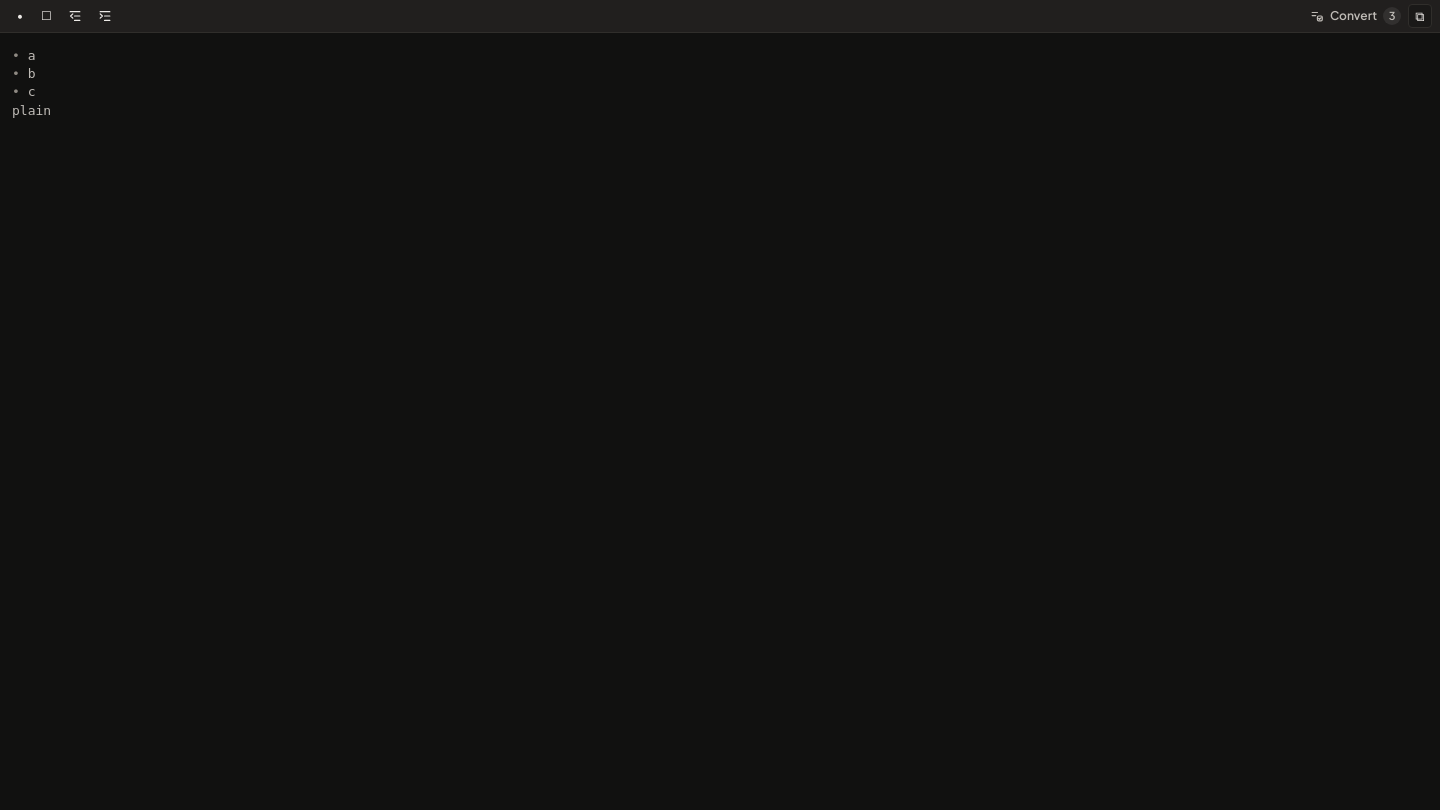
Test case: Remove note lines after converting (the setting) › the preview: its button says the lines go; no remove / keep prompt; lines left out stay
Step 1. Click the button "Convert 3 " → coordinates (1354, 16), box [1303,4,1406,28]
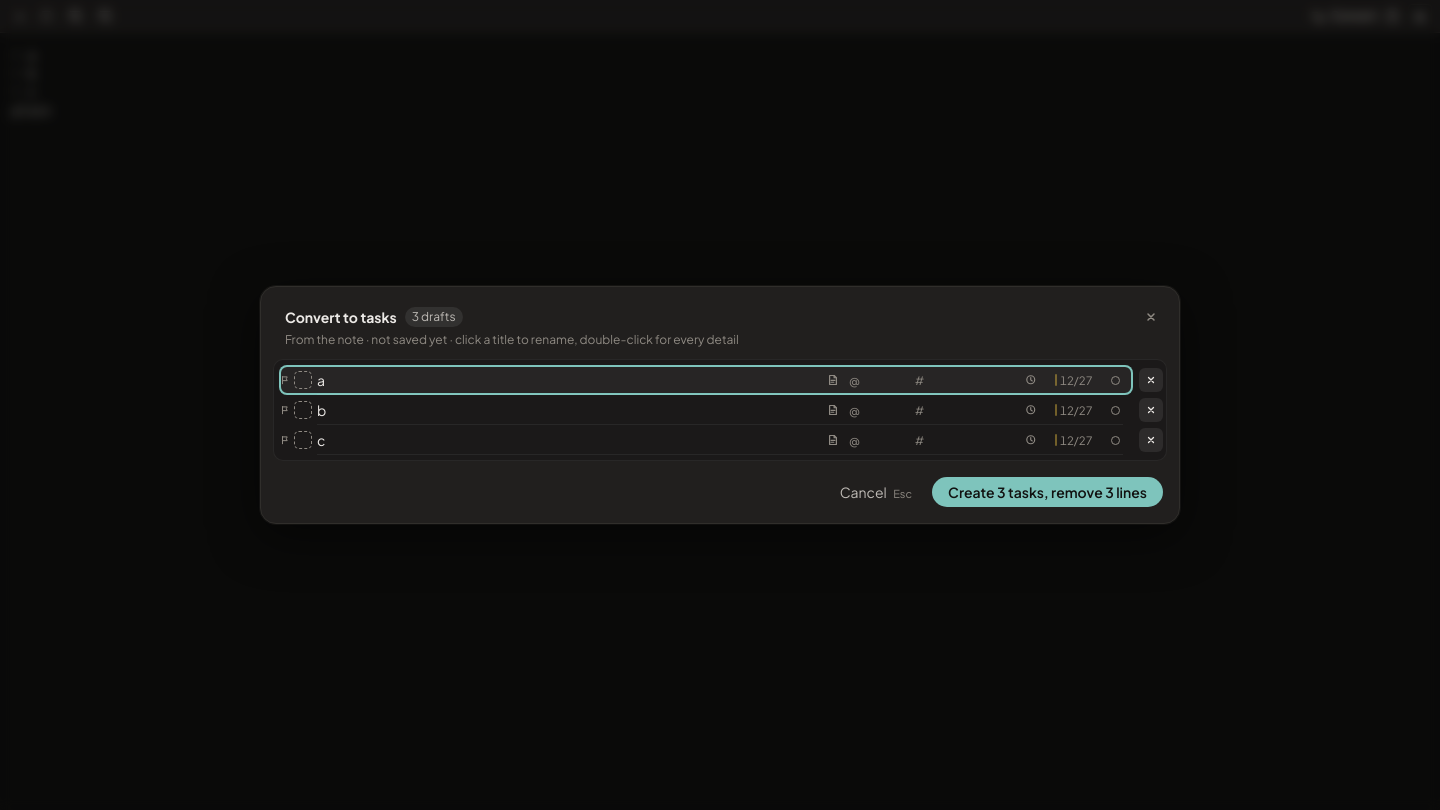
Step 2. Click the button named "Remove \"c\"" → coordinates (1151, 440), box [1139,428,1163,452]
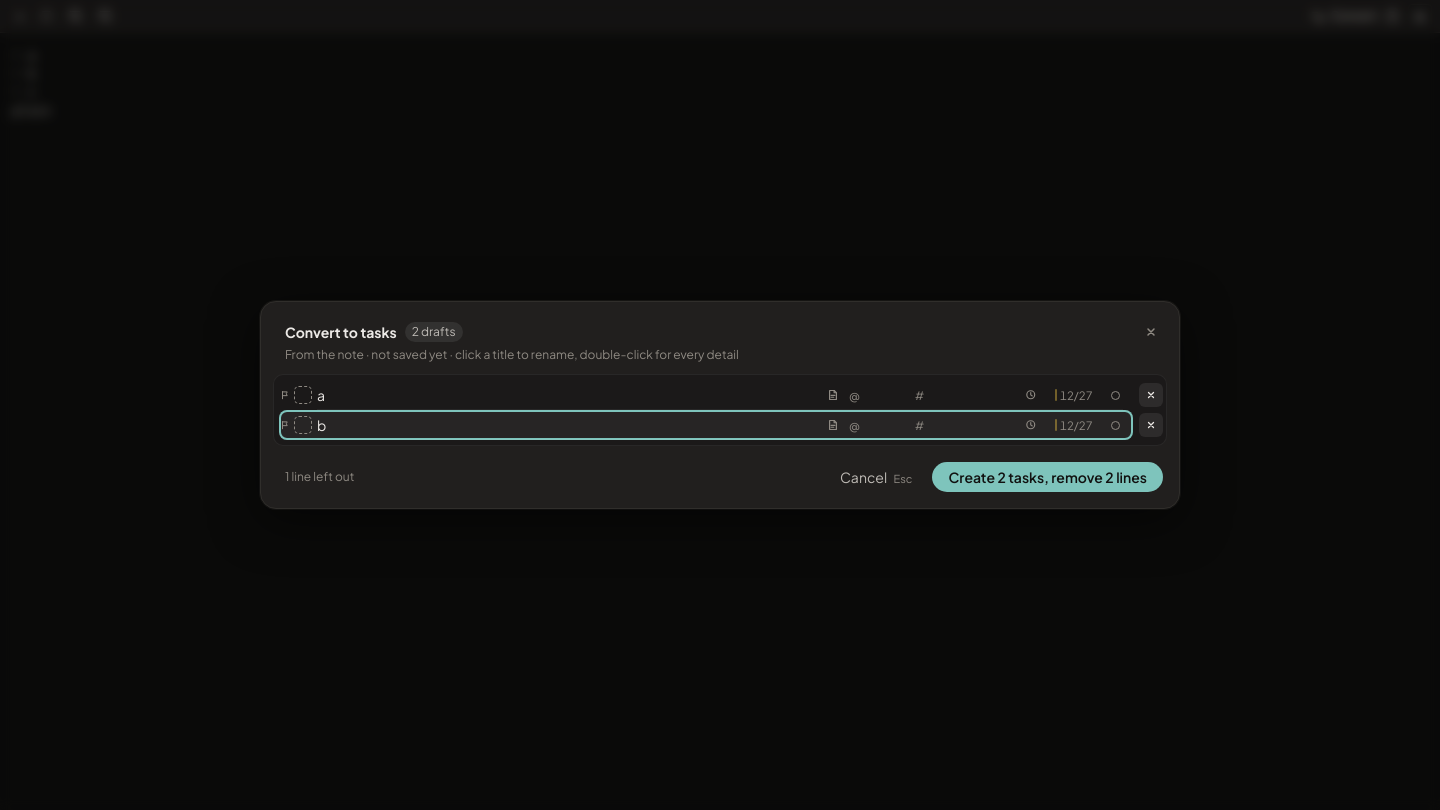
Step 3. Click the checkbox named "Done: remove \"b\" from the note" → coordinates (303, 425), box [294,416,312,434]
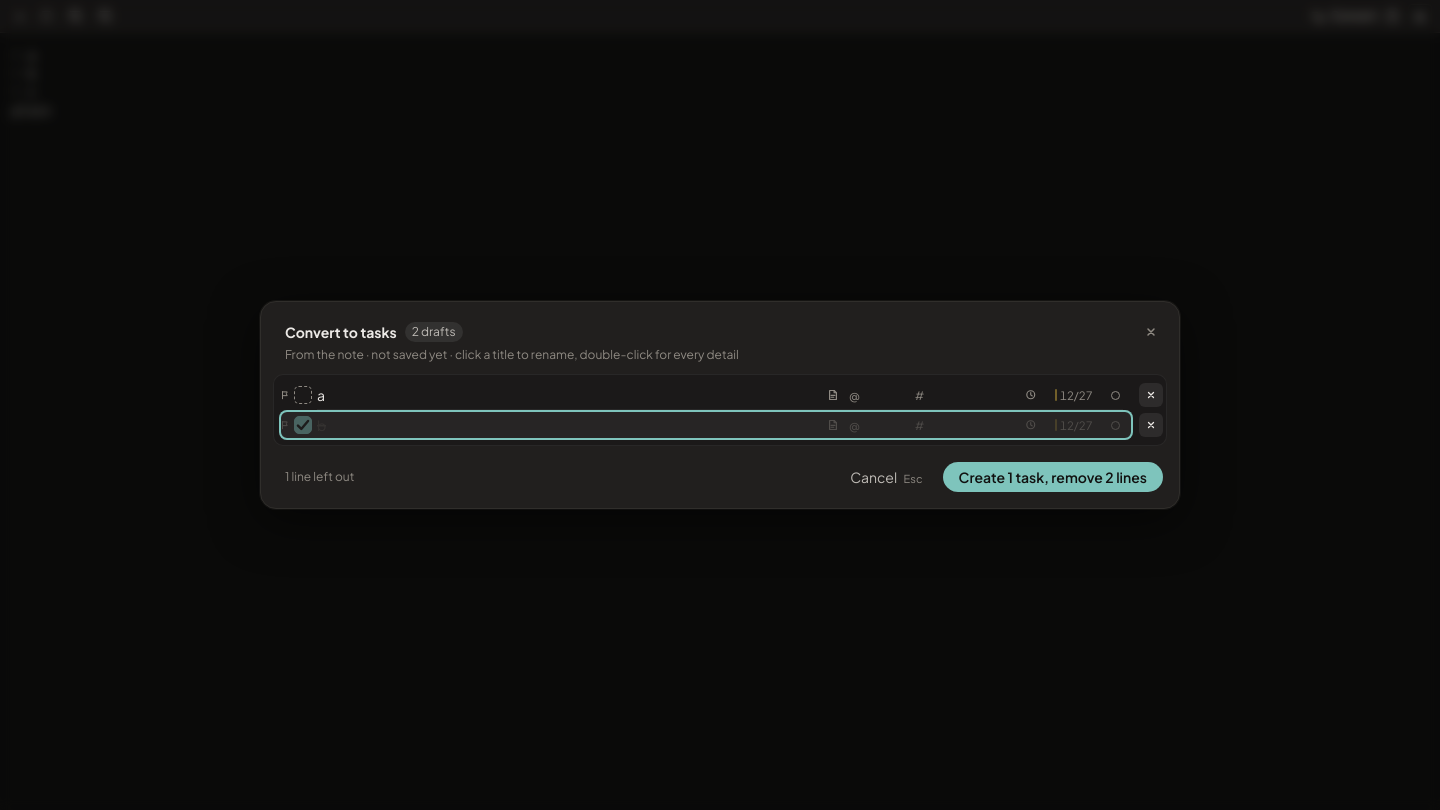
Step 4. Click the button "Create 1 task, remove 2 lines" → coordinates (1053, 477), box [942,462,1163,492]
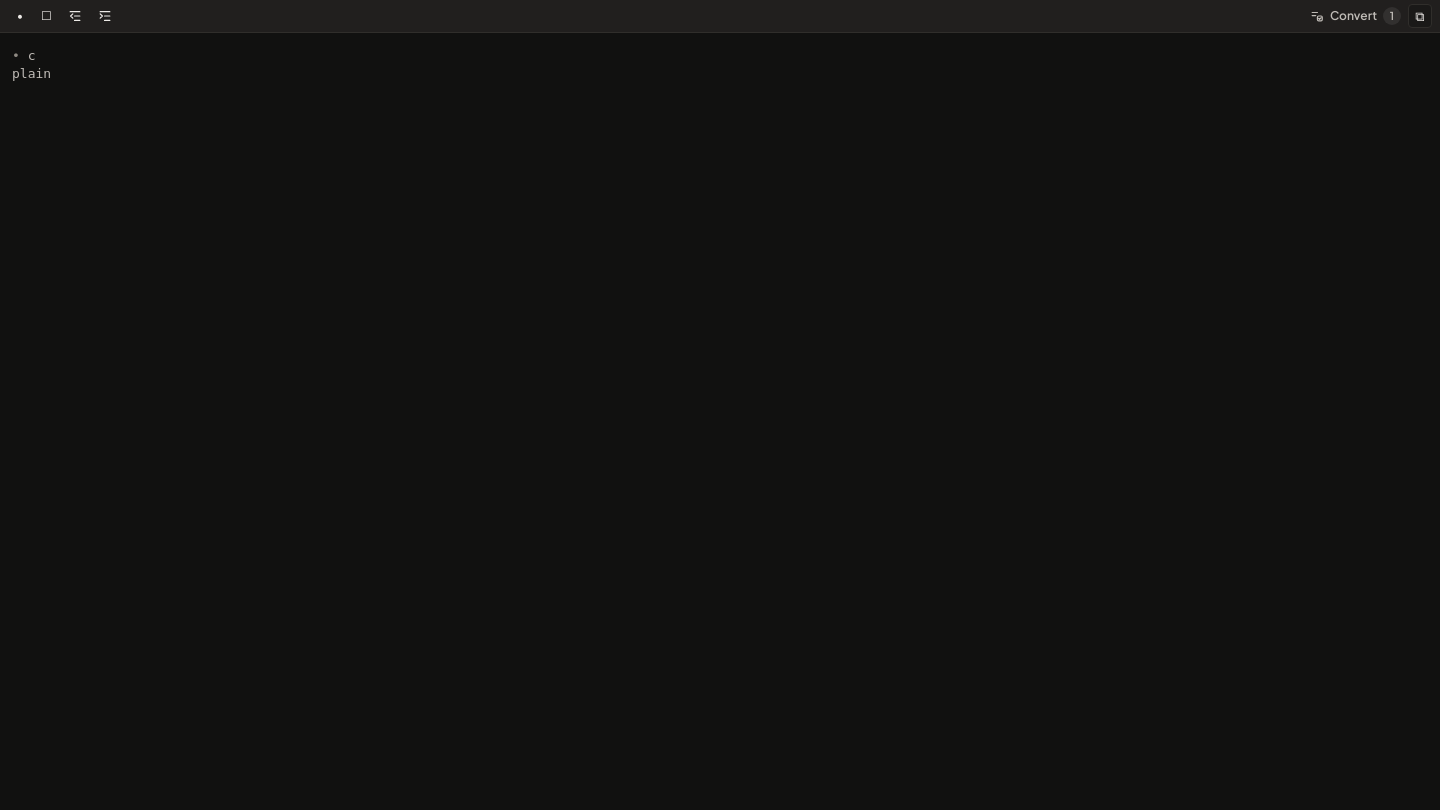
Result: the heading "Convert to tasks" is gone
